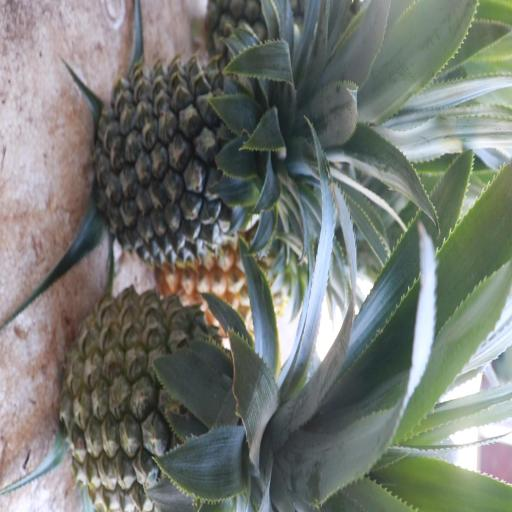------------------------------: (65, 291, 276, 503)
